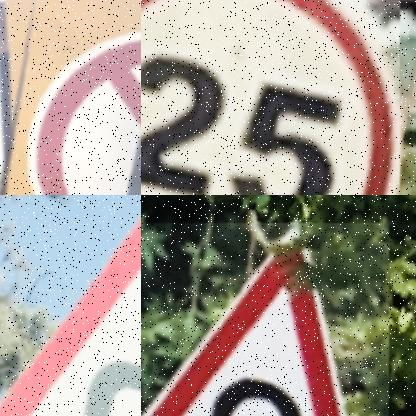No Parking: (0, 0, 141, 195)
Speed Limit -25 kmph-: (141, 0, 399, 195)
U-Turn: (143, 223, 347, 416), (0, 222, 141, 416)
